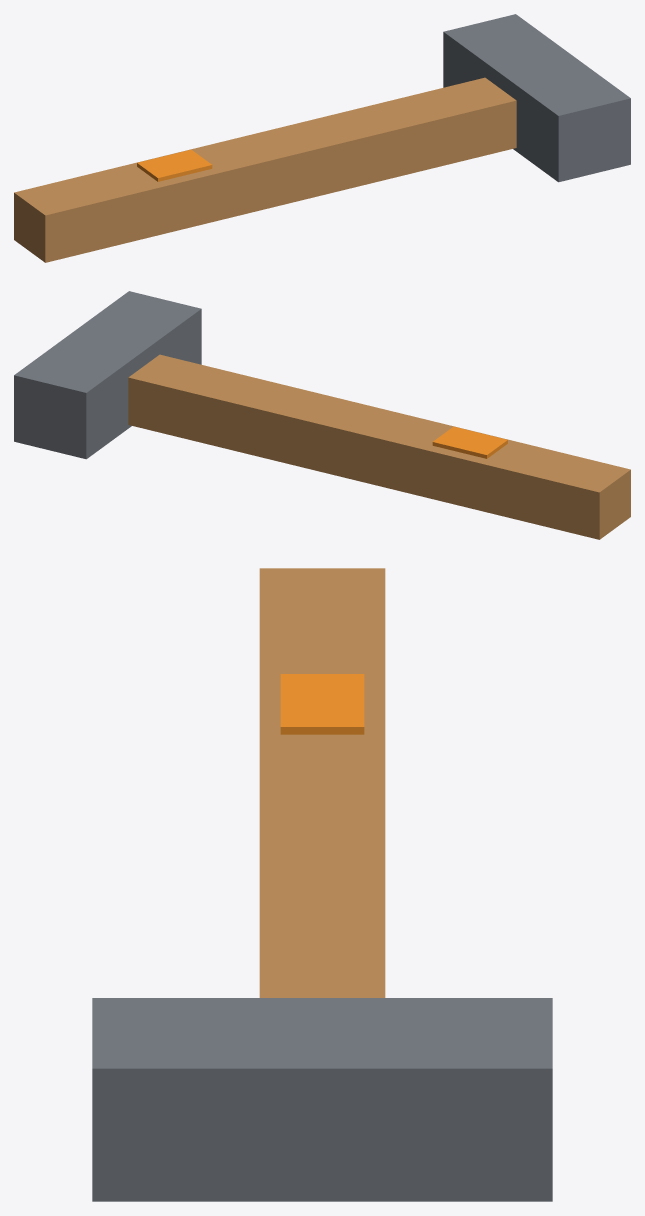
File: tool_hammer.glb
3 views of the same model, one above another, from view 1: azimuth 30°, elevation 25°; view 2: azimuth 150°, elevation 25°; view 3: azimuth 270°, elevation 25° (orthographic). The views are drawn at different scales.
Parts seen in each view (by area): view 1: handle_tool_wood, head_tool_steel, tag_price_tag; view 2: handle_tool_wood, head_tool_steel, tag_price_tag; view 3: head_tool_steel, handle_tool_wood, tag_price_tag.
Part boxes in pixels (x1=…): handle_tool_wood: x1=14, y1=77, x2=516, y2=262; head_tool_steel: x1=443, y1=14, x2=630, y2=182; tag_price_tag: x1=137, y1=149, x2=212, y2=181; handle_tool_wood: x1=128, y1=354, x2=630, y2=539; head_tool_steel: x1=14, y1=291, x2=201, y2=459; tag_price_tag: x1=432, y1=426, x2=507, y2=458; head_tool_steel: x1=92, y1=998, x2=552, y2=1201; handle_tool_wood: x1=259, y1=568, x2=385, y2=997; tag_price_tag: x1=280, y1=674, x2=364, y2=734.
Size of the model in its own units: 0.3 by 0.035 by 0.11.
